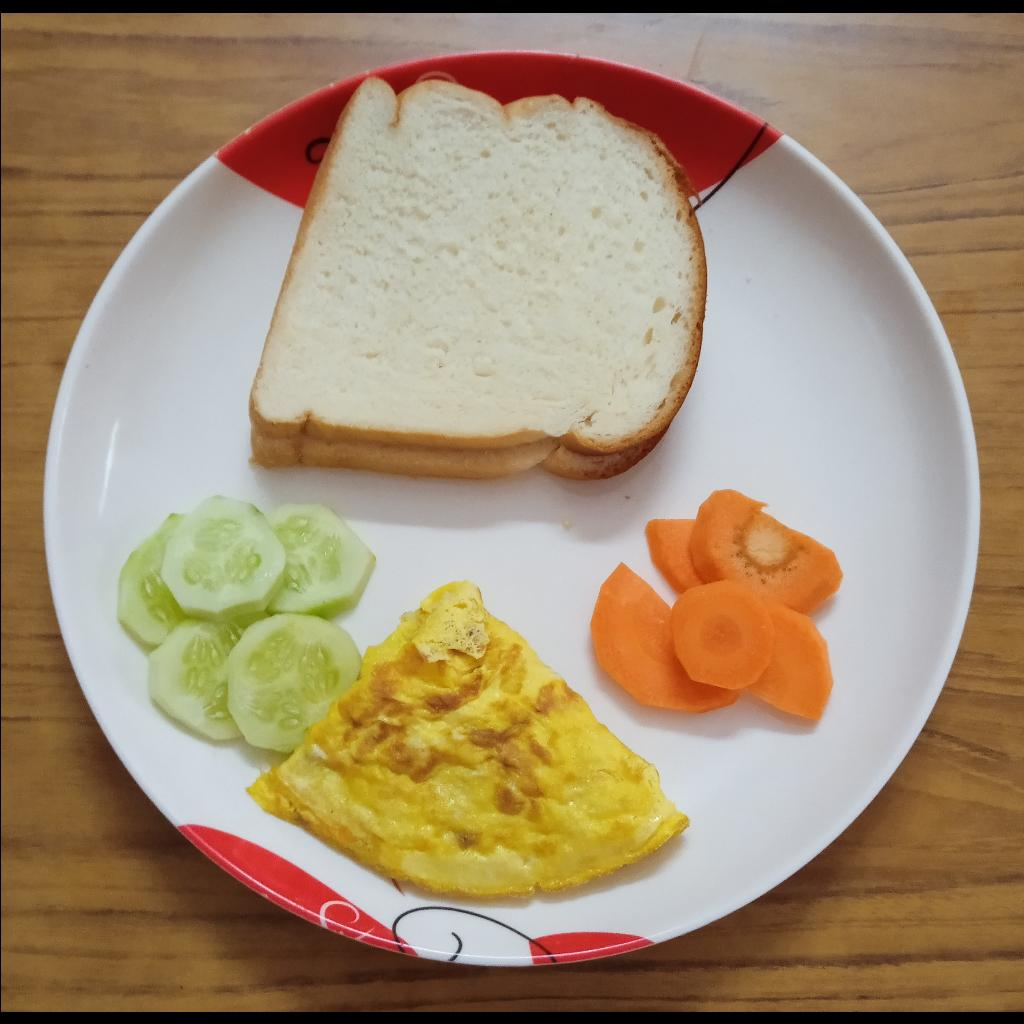bread: (246, 78, 710, 485)
carrot: (586, 481, 849, 724)
cucumber: (110, 495, 377, 757)
egg: (247, 579, 691, 898)
